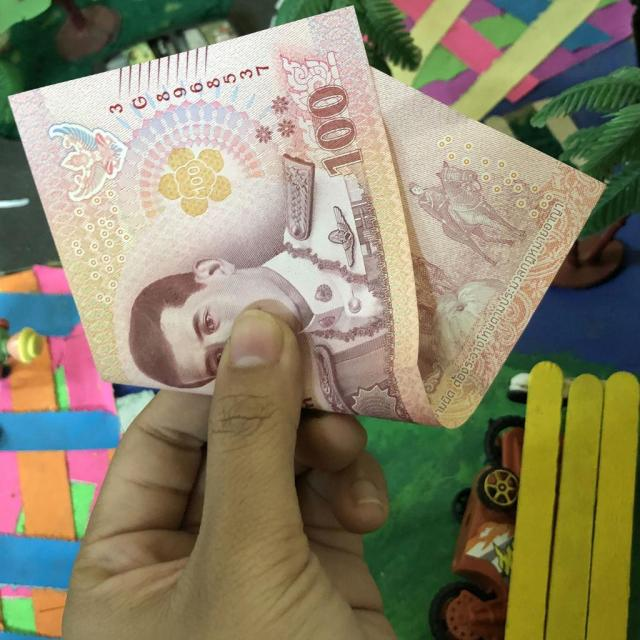THAI100: (12, 9, 604, 428)
